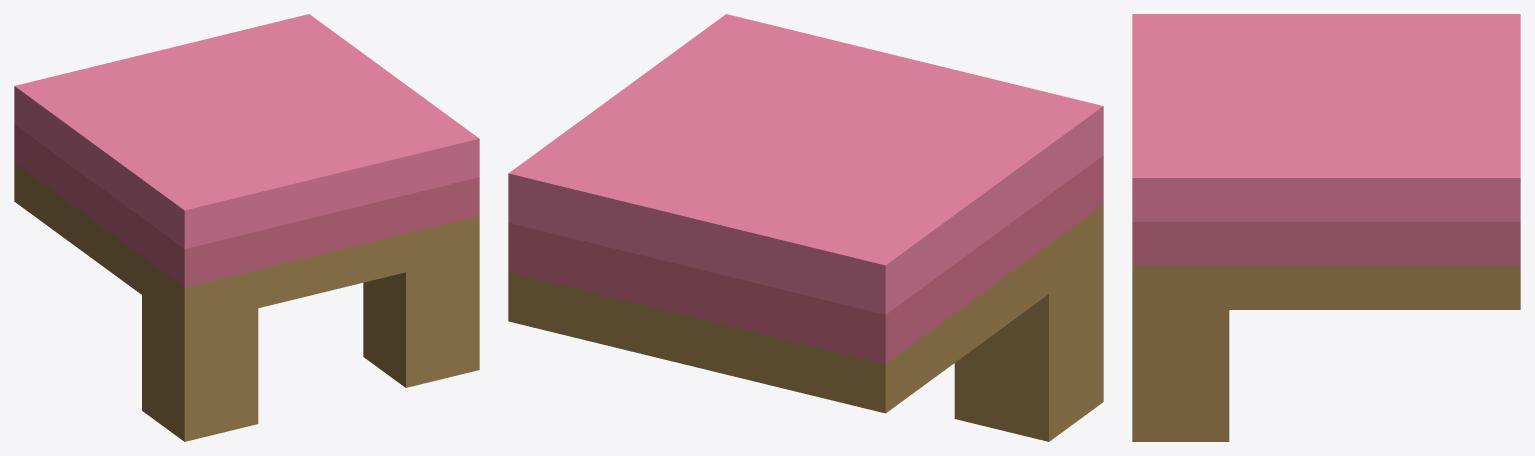
Rendered from Pink Bed.glb.
3 renders of one model, left to right at view 1: azimuth 30°, elevation 25°; view 2: azimuth 150°, elevation 25°; view 3: azimuth 270°, elevation 25°, orthographic. The views are drawn at different scales.
Parts seen in each view (by area): view 1: Untitled; view 2: Untitled; view 3: Untitled.
Boxes of the visible parts, <box> form: Untitled: <box>14,14,479,441</box>; Untitled: <box>508,14,1103,441</box>; Untitled: <box>1132,14,1520,441</box>.
Bounding box in the file's own units: 1.6 × 1.2 × 1.6.
1 material, 1 textured.
